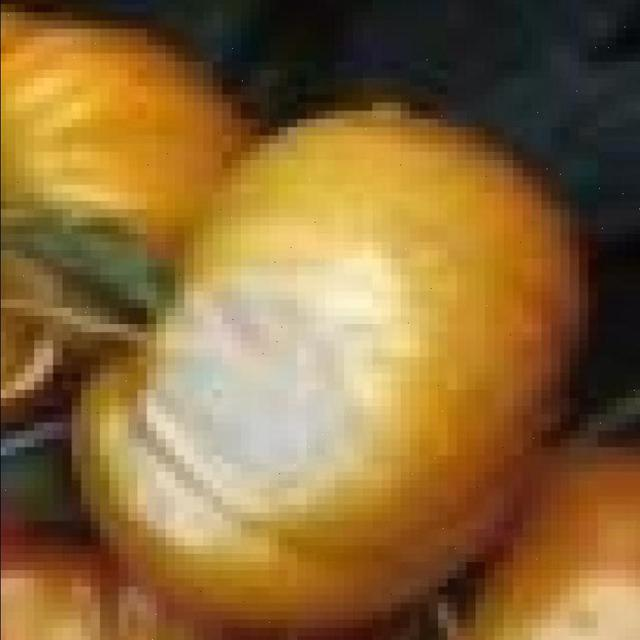Sunscald Fruit: (82, 167, 276, 364)
